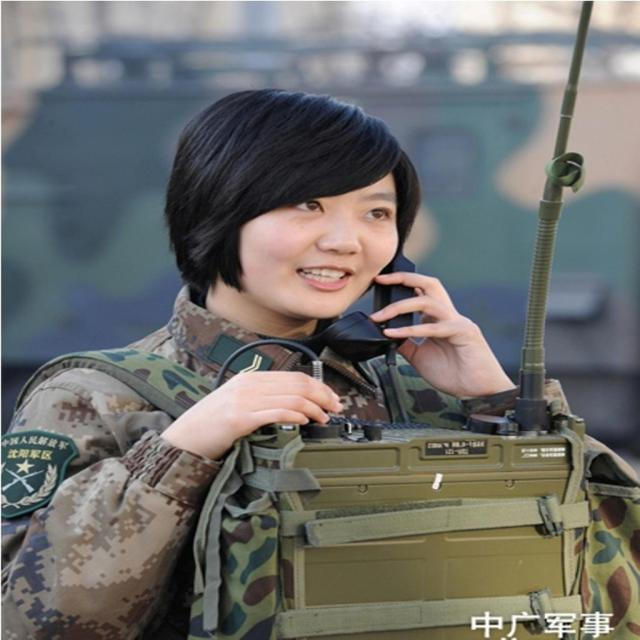Face: (209, 168, 438, 325)
